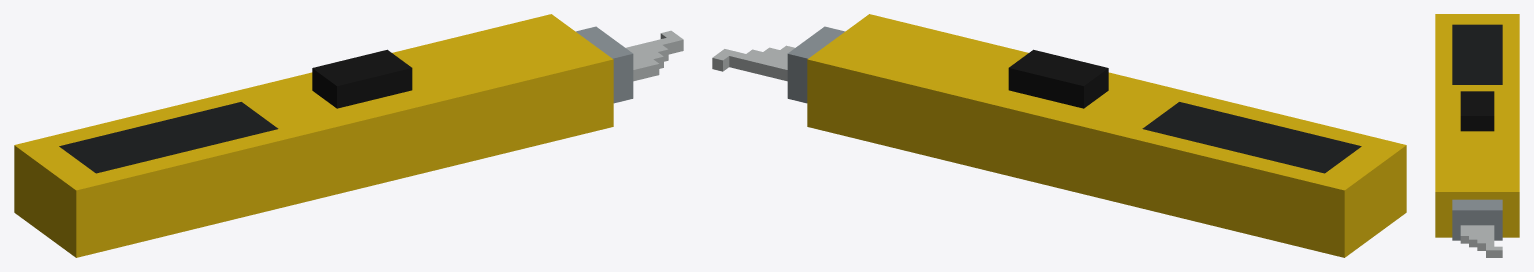
Rendered from boxcutter.glb.
The picture shows the model from 3 angles, left to right: view 1: azimuth 30°, elevation 25°; view 2: azimuth 150°, elevation 25°; view 3: azimuth 270°, elevation 25°; orthographic projection. The views are drawn at different scales.
Visible parts, largest first — view 1: boxcutter:compound; view 2: boxcutter:compound; view 3: boxcutter:compound.
Part boxes in pixels (x1,y1,x2,y2): boxcutter:compound: (14,14,683,257); boxcutter:compound: (712,14,1406,257); boxcutter:compound: (1435,14,1519,257).
Bounding box in the file's own units: 0.12 × 0.016 × 0.02.
